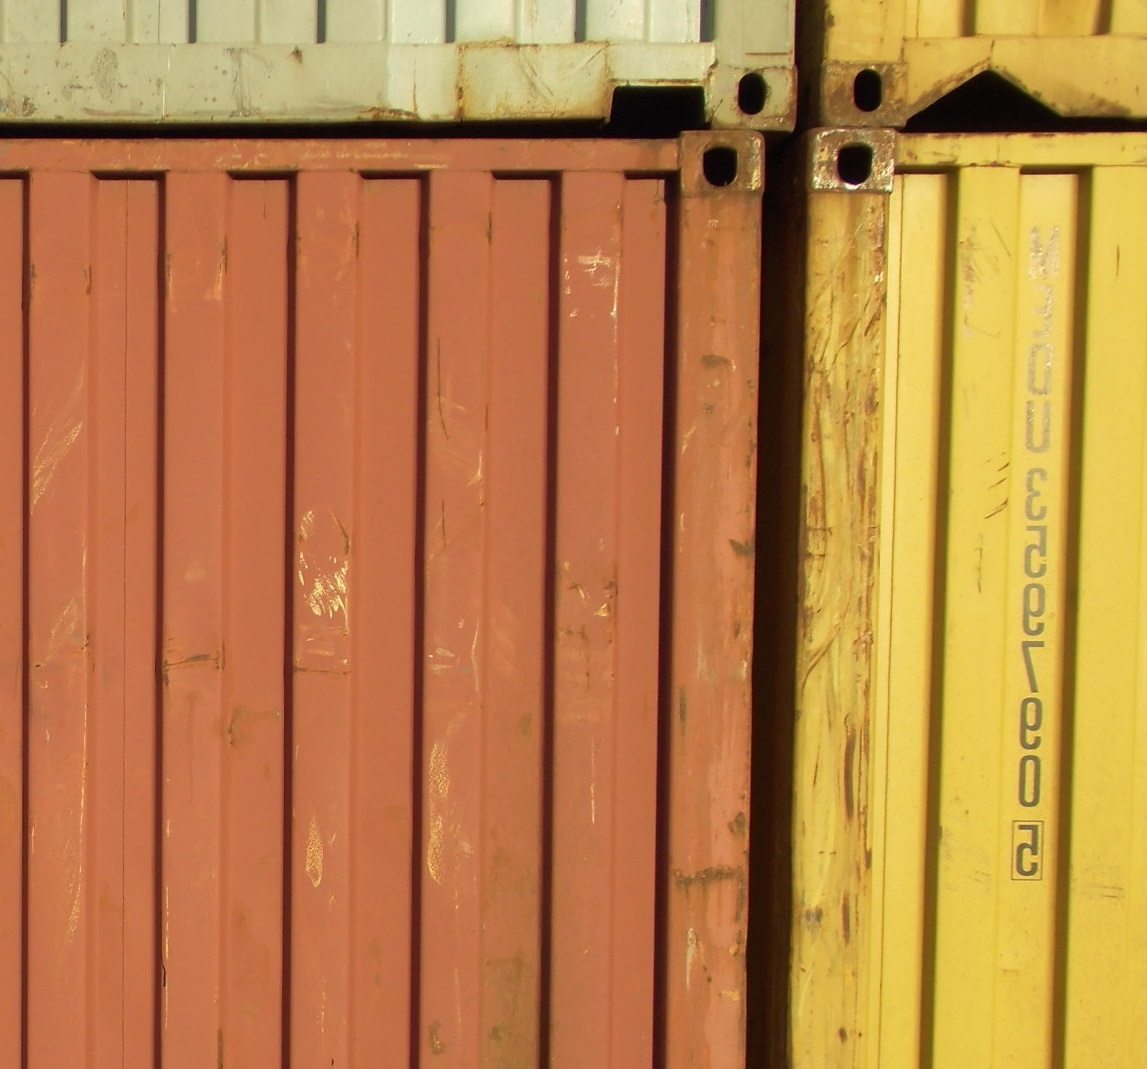container_no_door: (2, 124, 771, 1069), (795, 124, 1147, 1069)
